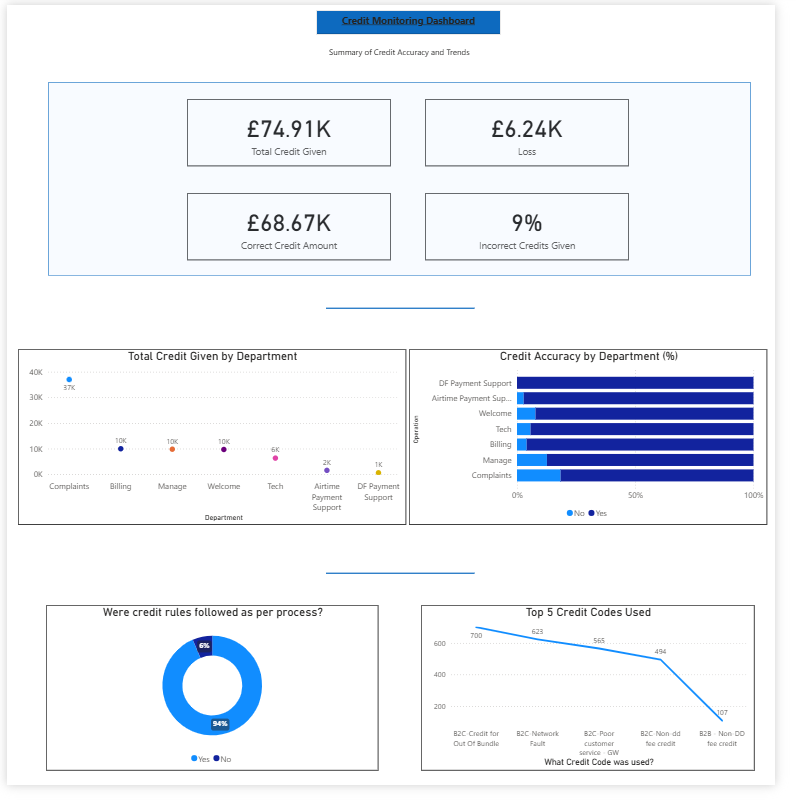

The page's visual inventory and layout, read from the dashboard file:
{"tool":"powerbi","page":{"name":"Credit Summary","canvas":[1280,1300],"ordinal":0},"visuals":[{"type":"lineChart","title":"Total Credit Given by Department","fields":{"Series":["Credit Monitoring July 25 Cleaned.Operation"],"Y":["Sum(Credit Monitoring July 25 Cleaned.Credit_given)"],"Category":["Credit Monitoring July 25 Cleaned.Operation"]},"box":[18.6,572.9,647.1,292.9],"z":0},{"type":"card","fields":{"Values":["Credit Monitoring July 25 Cleaned.Incorrect Credits %"]},"box":[696.7,313.3,340,111.7],"z":1000},{"type":"hundredPercentStackedBarChart","title":"Credit Accuracy by Department (%)","fields":{"Category":["Credit Monitoring July 25 Cleaned.Operation"],"Y":["CountNonNull(Credit Monitoring July 25 Cleaned.Was the Value of the credit accurate?)"],"Series":["Credit Monitoring July 25 Cleaned.Was the Value of the credit accurate?"]},"box":[670,572.9,597.1,292.9],"z":2000},{"type":"card","fields":{"Values":["Credit Monitoring July 25 Cleaned.Total Credit Given"]},"box":[300,156.7,340,111.7],"z":3000},{"type":"card","fields":{"Values":["Credit Monitoring July 25 Cleaned.Total Credit Should Have Been Given"]},"box":[300,313.3,340,111.7],"z":4000},{"type":"card","fields":{"Values":["Credit Monitoring July 25 Cleaned.Difference"]},"box":[696.7,156.7,340,111.7],"z":5000},{"type":"lineChart","title":"Top 5 Credit Codes Used","fields":{"Category":["Credit Monitoring July 25 Cleaned.What Credit Code was used?"],"Y":["CountNonNull(Credit Monitoring July 25 Cleaned.What Credit Code was used?)"]},"box":[690,1000,555.7,275.7],"z":6000},{"type":"donutChart","title":"Were credit rules followed as per process?","fields":{"Category":["Credit Monitoring July 25 Cleaned.Were credit rules followed as per Support?"],"Y":["CountNonNull(Credit Monitoring July 25 Cleaned.Were credit rules followed as per Support?)"]},"box":[65.7,1000,554.3,275.7],"z":7000},{"type":"textbox","box":[515.6,8.9,307.8,41.1],"z":8000},{"type":"shape","box":[531.2,451.2,247.5,107.5],"z":9000},{"type":"textbox","box":[531.2,65,270,60],"z":10000},{"type":"shape","box":[68.3,128.3,1171.7,323.3],"z":11000},{"type":"shape","box":[531.2,892.5,247.5,107.5],"z":12000}]}

Visuals, with their boxes in screenshot pixels (x1, y1, x2, y2), scaled from the page's 1280x1300 canvas onto the 796x809 screenshot:
"Total Credit Given by Department" lineChart: x1=12 y1=357 x2=414 y2=539
card - Credit Monitoring July 25 Cleaned.Incorrect Credits %: x1=433 y1=195 x2=645 y2=264
"Credit Accuracy by Department (%)" hundredPercentStackedBarChart: x1=417 y1=357 x2=788 y2=539
card - Credit Monitoring July 25 Cleaned.Total Credit Given: x1=187 y1=98 x2=398 y2=167
card - Credit Monitoring July 25 Cleaned.Total Credit Should Have Been Given: x1=187 y1=195 x2=398 y2=264
card - Credit Monitoring July 25 Cleaned.Difference: x1=433 y1=98 x2=645 y2=167
"Top 5 Credit Codes Used" lineChart: x1=429 y1=622 x2=775 y2=794
"Were credit rules followed as per process?" donutChart: x1=41 y1=622 x2=386 y2=794
textbox: x1=321 y1=6 x2=512 y2=31
shape: x1=330 y1=281 x2=484 y2=348
textbox: x1=330 y1=40 x2=498 y2=78
shape: x1=42 y1=80 x2=771 y2=281
shape: x1=330 y1=555 x2=484 y2=622
